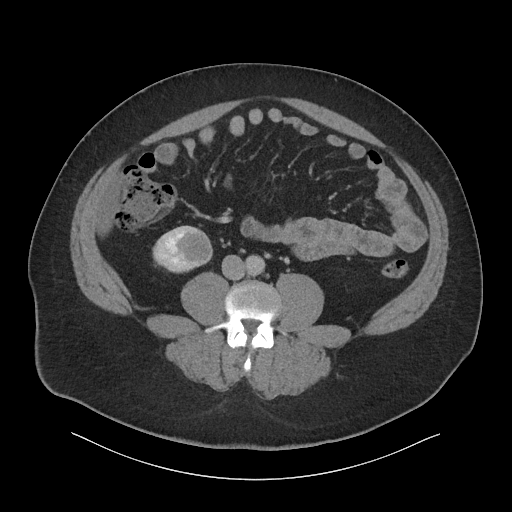Lesion: (178, 230, 213, 266)
